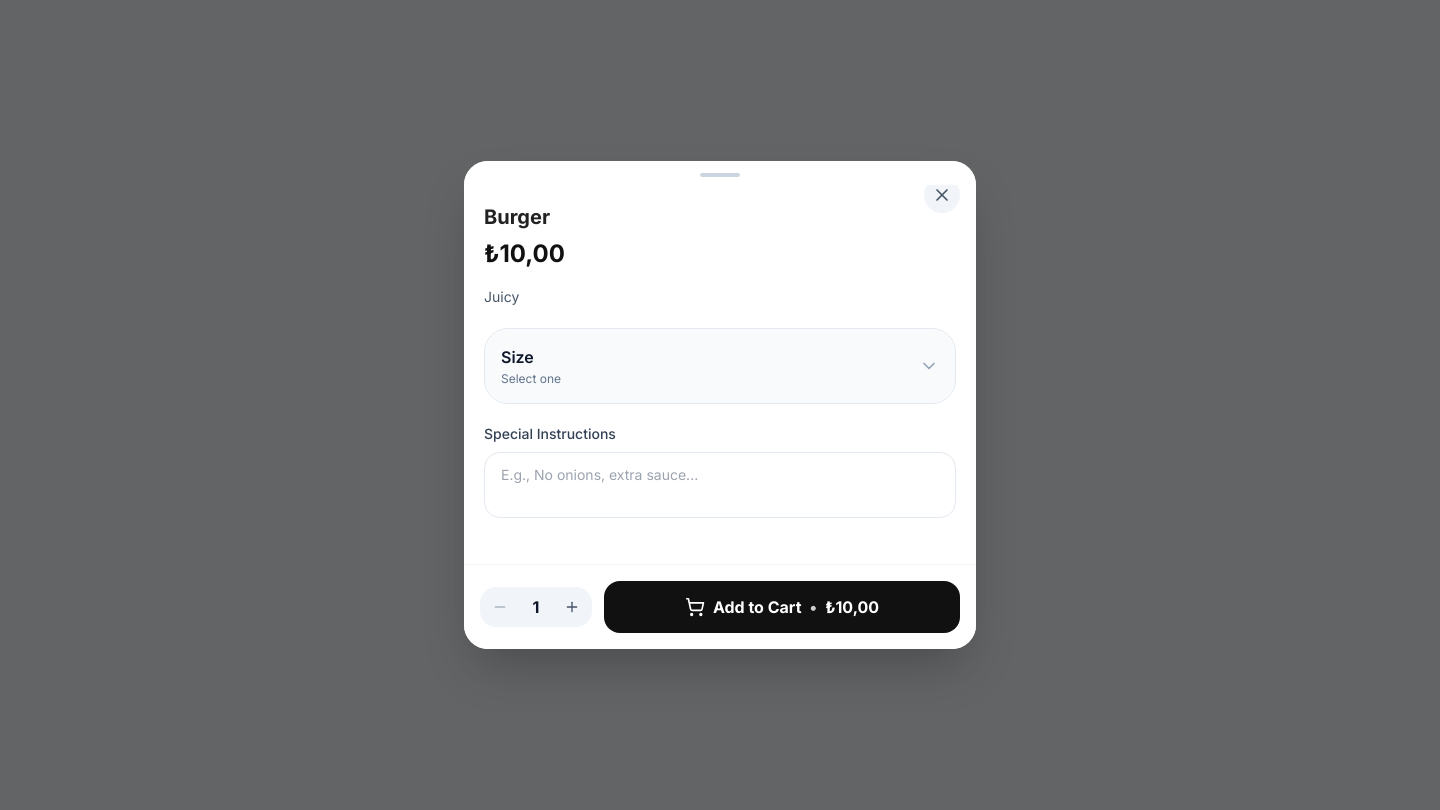
Test: ProductDetailModalWithCart — single-select modifier group › clicking the selected single option again deselects it
Click the button "Size Select one" at (517, 357), box 485,329 -> 955,403
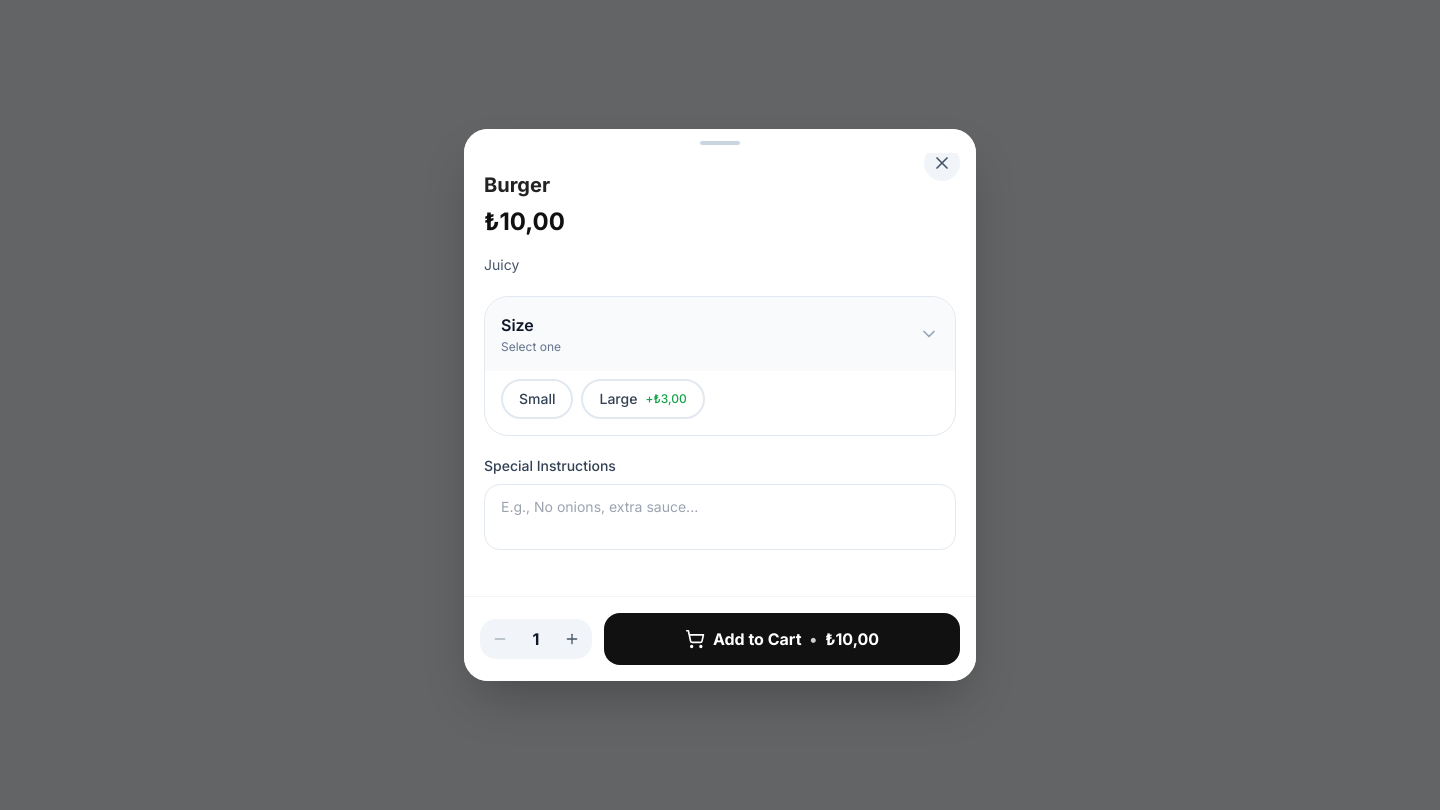
Click the button "Large +₺3,00" at (643, 399), box 582,379 -> 705,419
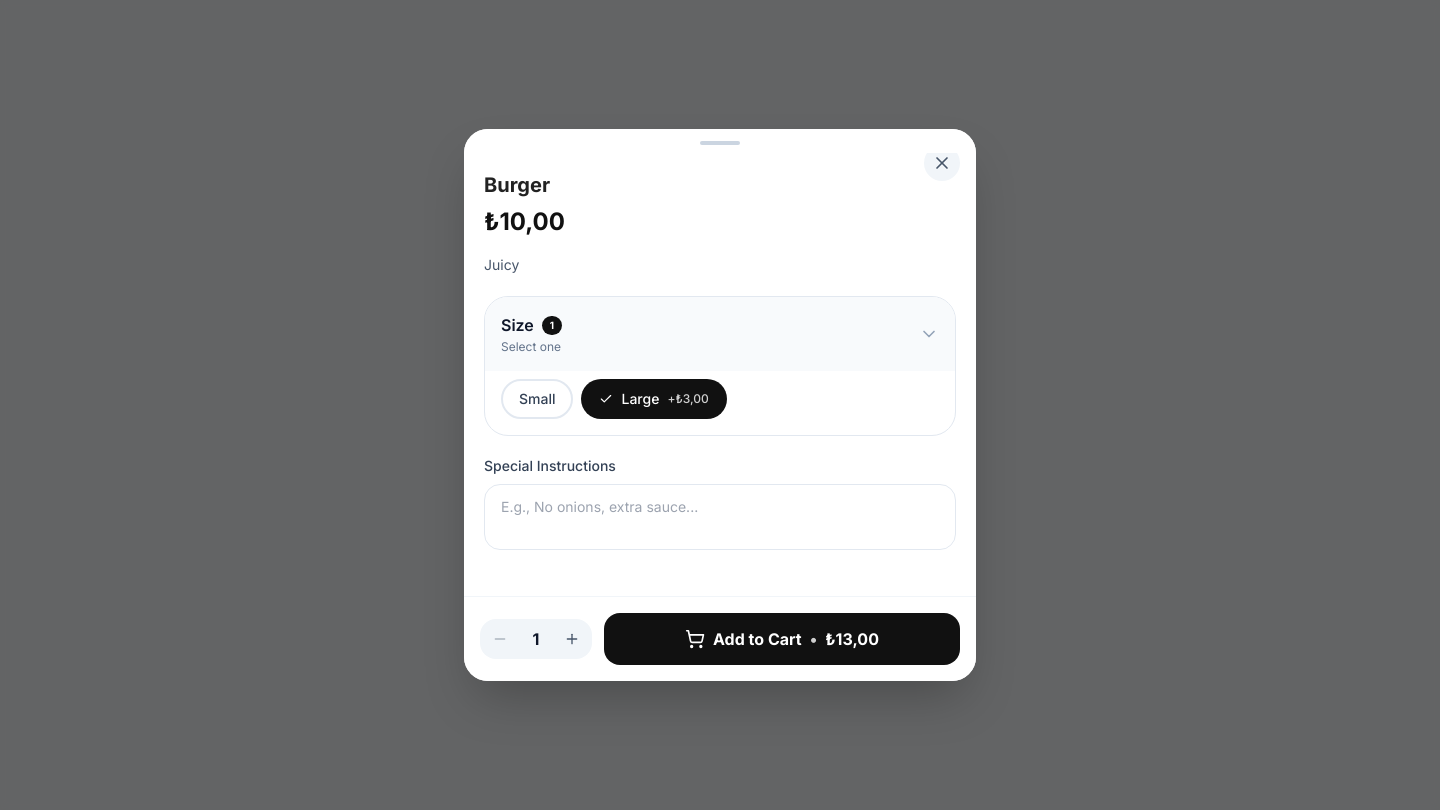
Expected: the button "Add to Cart • ₺13,00" is shown, 604,613 -> 960,665
Click the button "Large +₺3,00" at (654, 399), box 582,379 -> 727,419
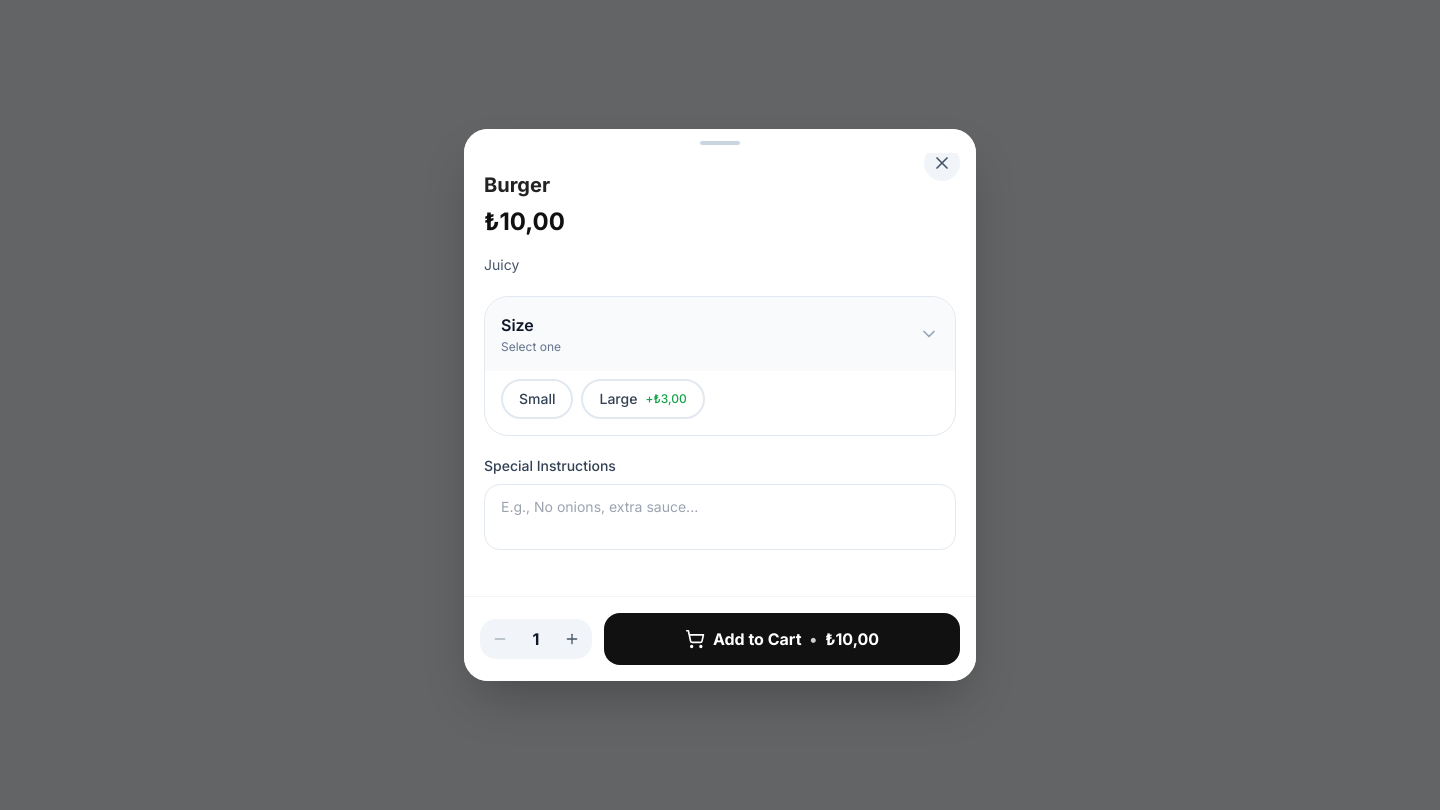
Expected: the button "Add to Cart • ₺10,00" is shown, 604,613 -> 960,665
